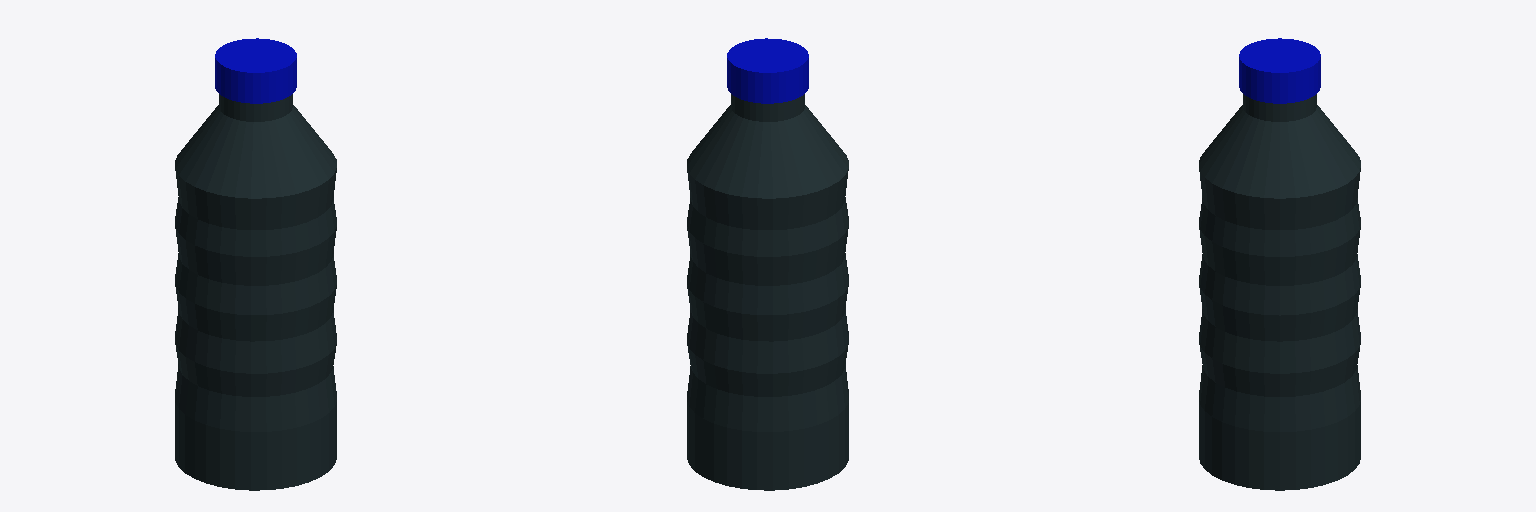
The model's file is water_bottle.obj.
3 renders of one model, left to right at view 1: azimuth 30°, elevation 25°; view 2: azimuth 150°, elevation 25°; view 3: azimuth 270°, elevation 25°, orthographic.
Parts seen in each view (by area): view 1: Cylinder; view 2: Cylinder; view 3: Cylinder.
Boxes of the visible parts, x1,y1,x2,y2 form: Cylinder: [175, 38, 336, 490]; Cylinder: [687, 38, 848, 490]; Cylinder: [1199, 38, 1360, 490].
Bounding box in the file's own units: 0.0724 × 0.1965 × 0.0724.